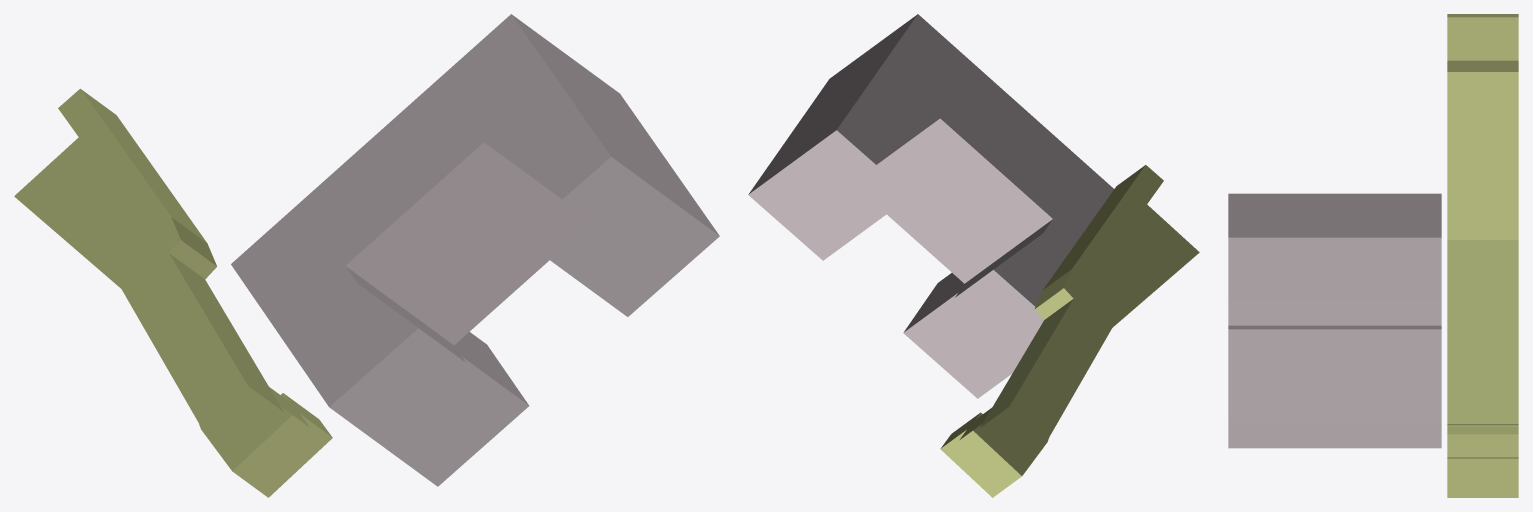
3 views of the same model, side by side, from view 1: azimuth 30°, elevation 25°; view 2: azimuth 150°, elevation 25°; view 3: azimuth 270°, elevation 25° (orthographic). The views are drawn at different scales.
Parts seen in each view (by area): view 1: 0_0_1_1_2_1; view 2: 0_0_1_1_2_1; view 3: 0_0_1_1_2_1.
Boxes of the visible parts, x1=… form: 0_0_1_1_2_1: x1=14, y1=14, x2=719, y2=497; 0_0_1_1_2_1: x1=748, y1=14, x2=1199, y2=497; 0_0_1_1_2_1: x1=1228, y1=14, x2=1518, y2=497.
Size of the model in its own units: 53.31 by 39.05 by 24.5.
